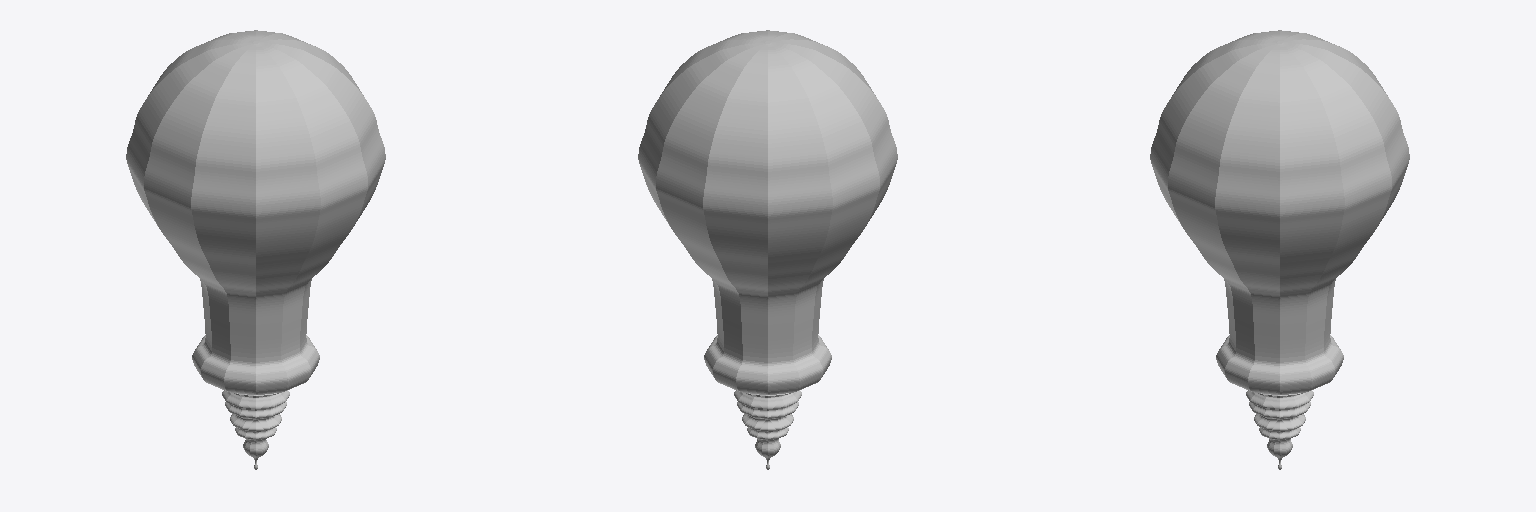
File: light_bulb.obj
3 renders of one model, left to right at view 1: azimuth 30°, elevation 25°; view 2: azimuth 150°, elevation 25°; view 3: azimuth 270°, elevation 25°, orthographic.
Visible parts, largest first — view 1: mesh01; view 2: mesh01; view 3: mesh01.
Boxes of the visible parts, <box> form: mesh01: <box>126,30,385,469</box>; mesh01: <box>638,30,897,469</box>; mesh01: <box>1150,30,1409,469</box>.
Bounding box in the file's own units: 54.4 × 98.82 × 54.4.